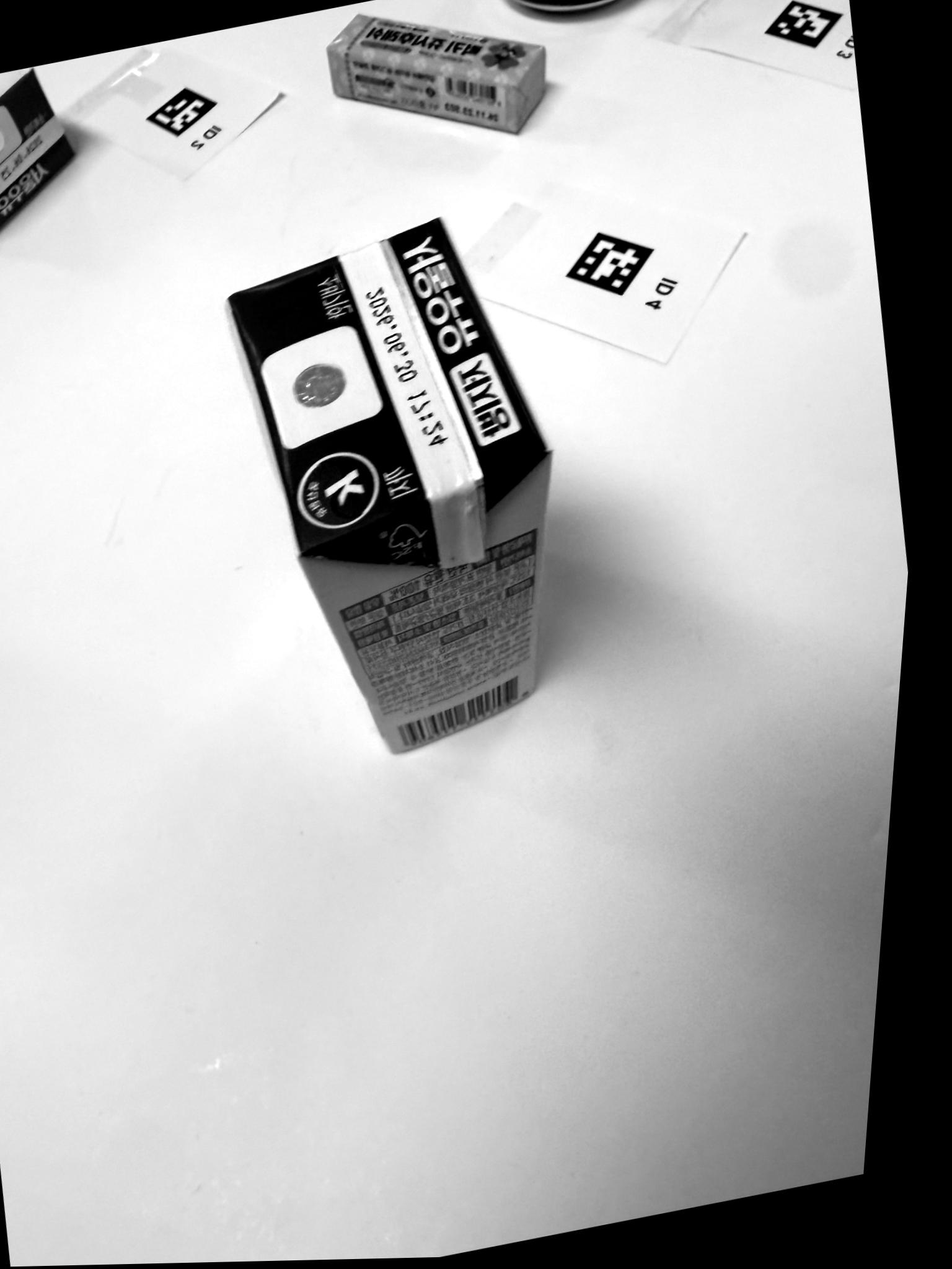milk_blue: (228, 220, 551, 752)
